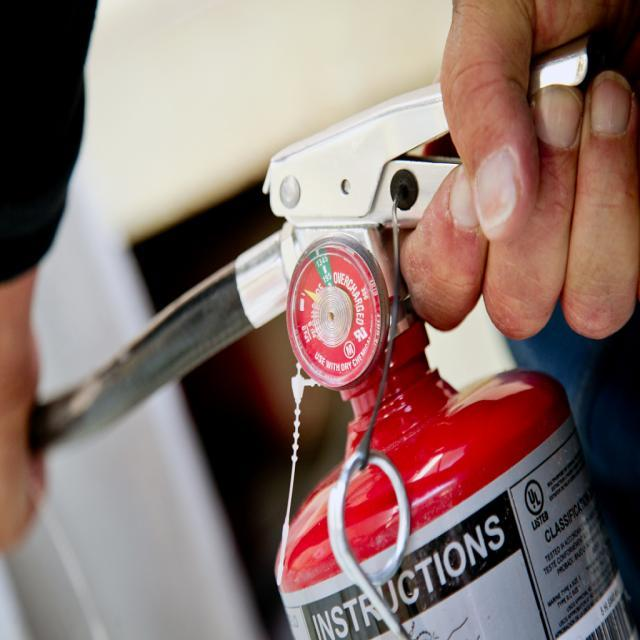pressure gauge: (288, 236, 387, 388)
